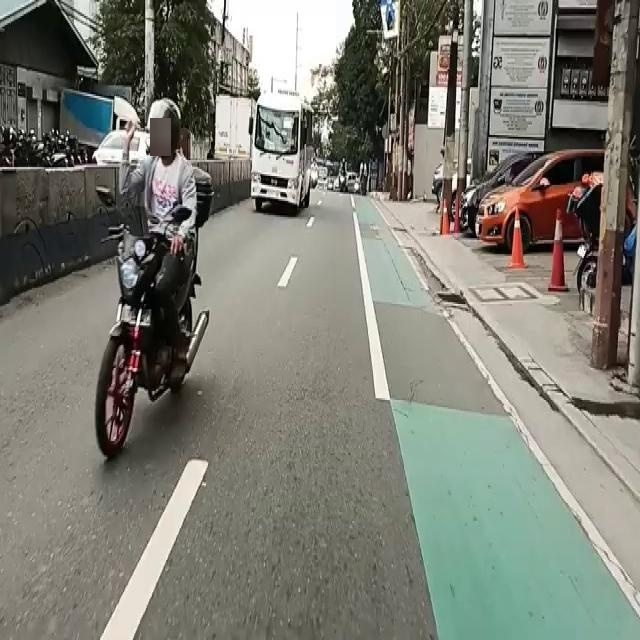bus: (249, 83, 323, 214)
car: (477, 140, 623, 248)
motorcycle: (94, 99, 222, 422)
